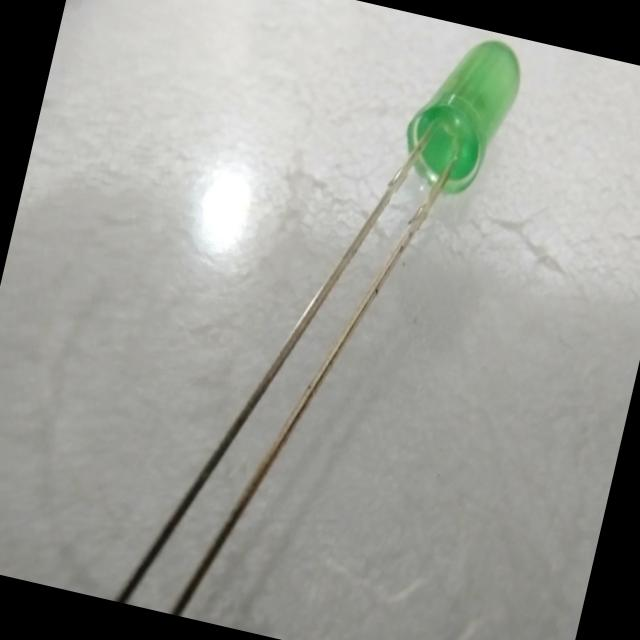green_led: (384, 15, 531, 212)
